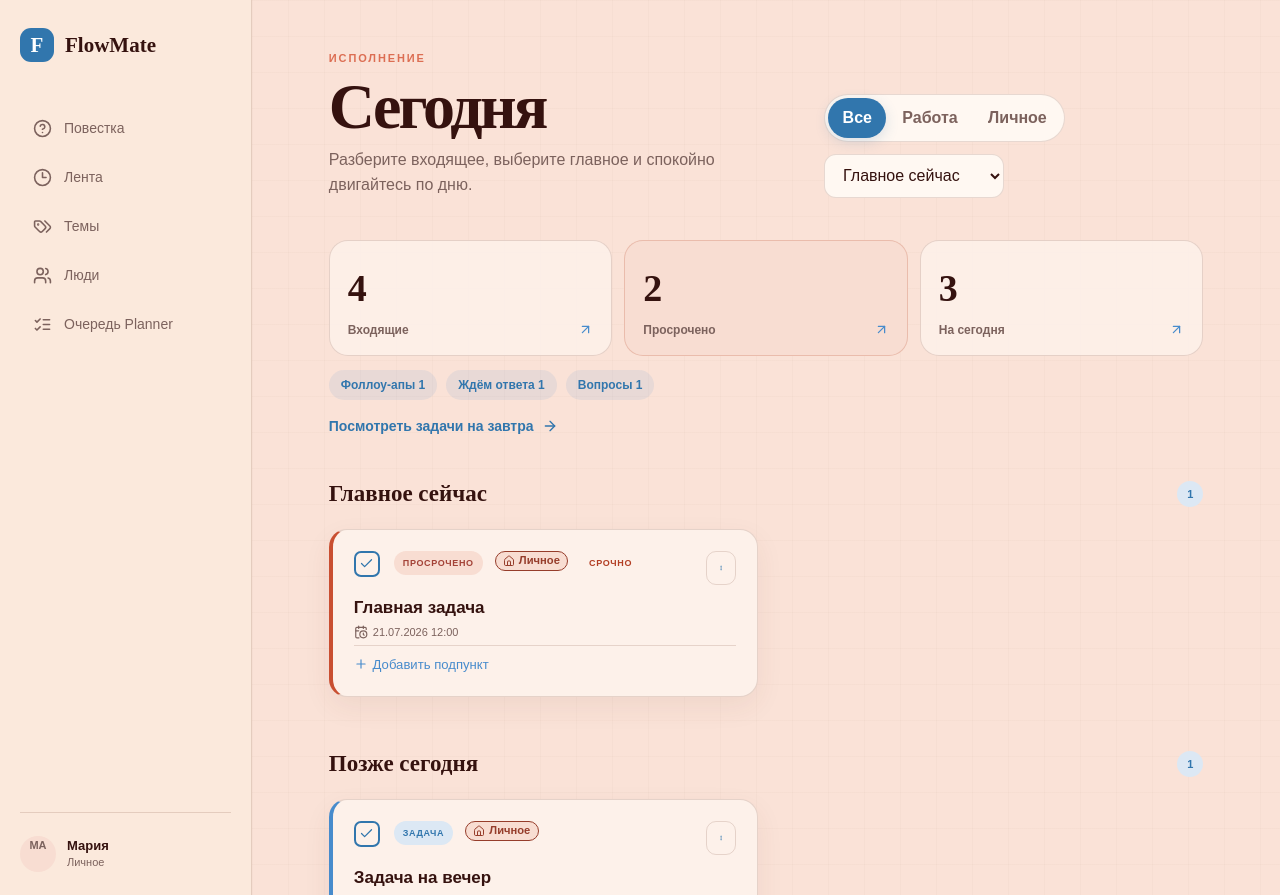
Scenario: Today home › switches from summary to the overdue section
Click the link "2 Просрочено".
click(679, 330)  # box [624,240,908,356]
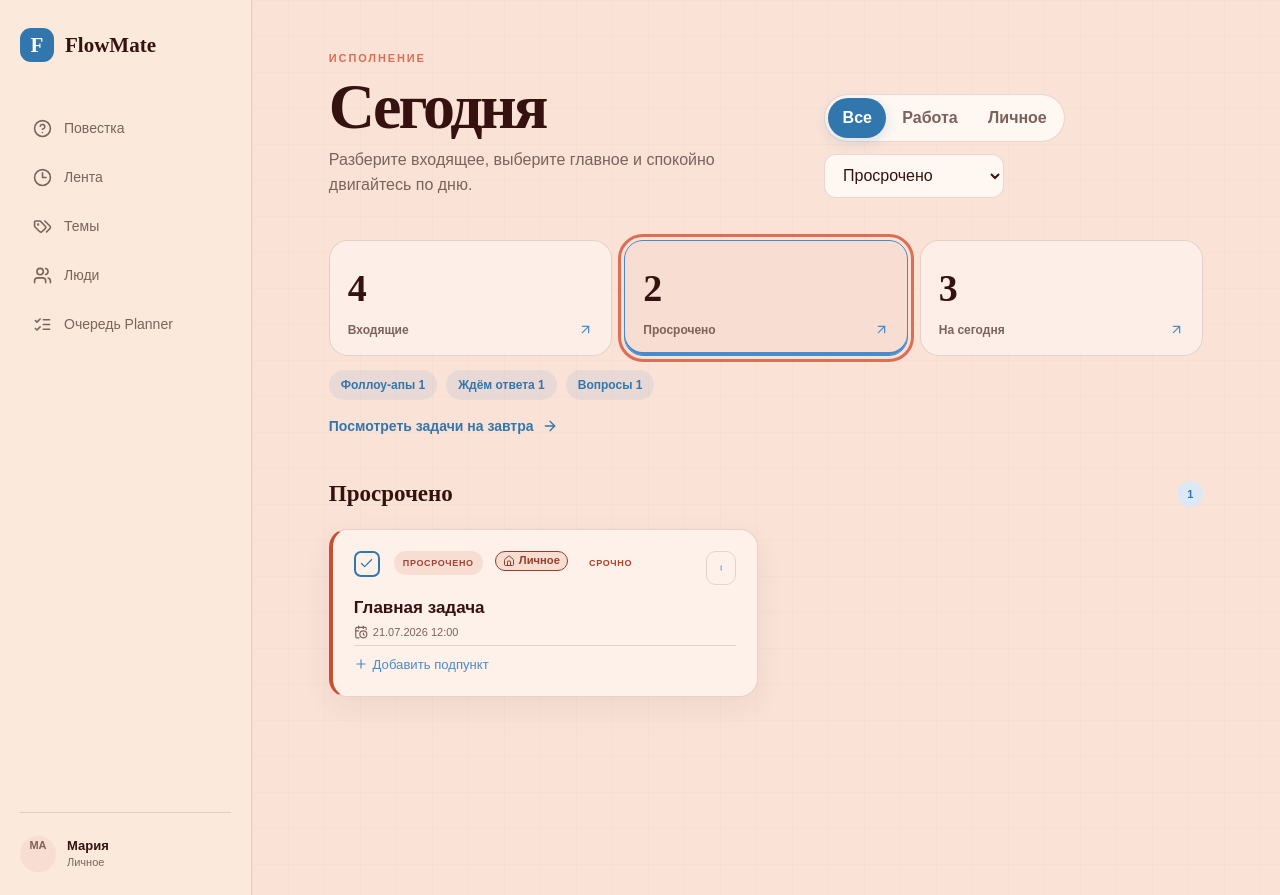
Expected: the dropdown named "Раздел Сегодня" shows "Просрочено", [824,154,1004,198]
Expected: the heading "Просрочено" is shown, [329,481,453,507]
